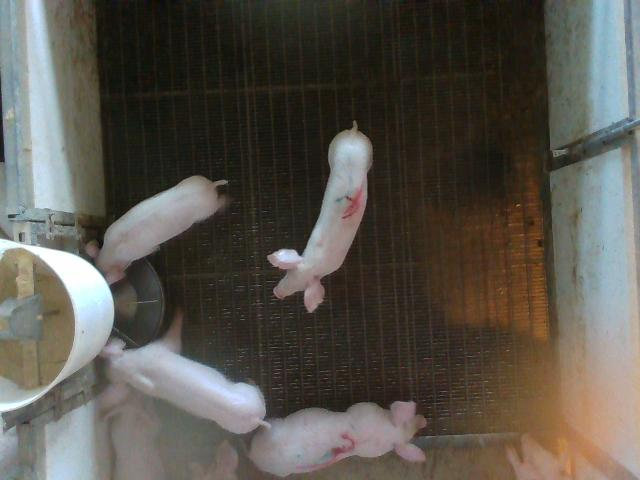pig-3: (249, 401, 426, 476)
pig-4: (268, 121, 372, 312)
